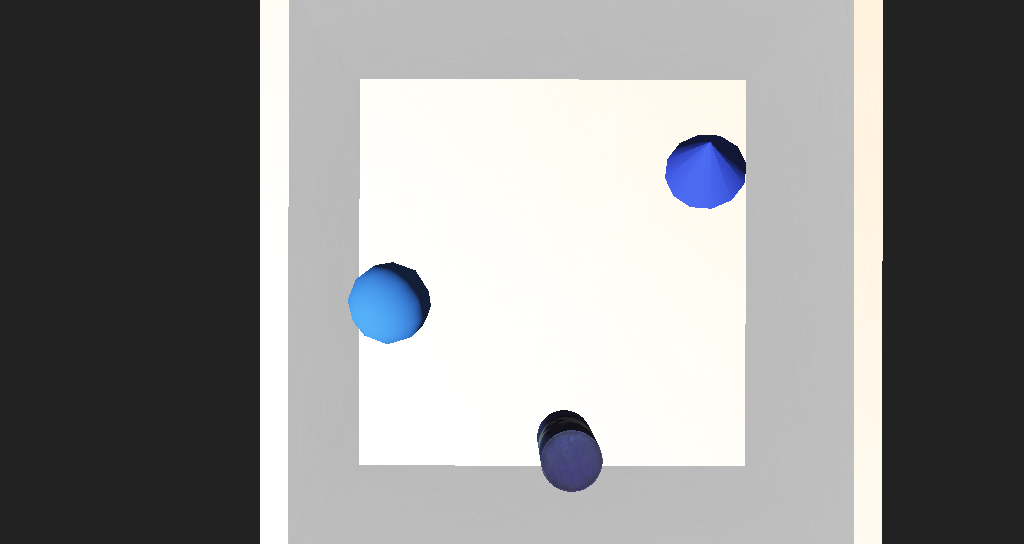cone: (495, 346, 542, 389)
cylinder: (573, 169, 680, 241)
sphere: (344, 265, 411, 308)
